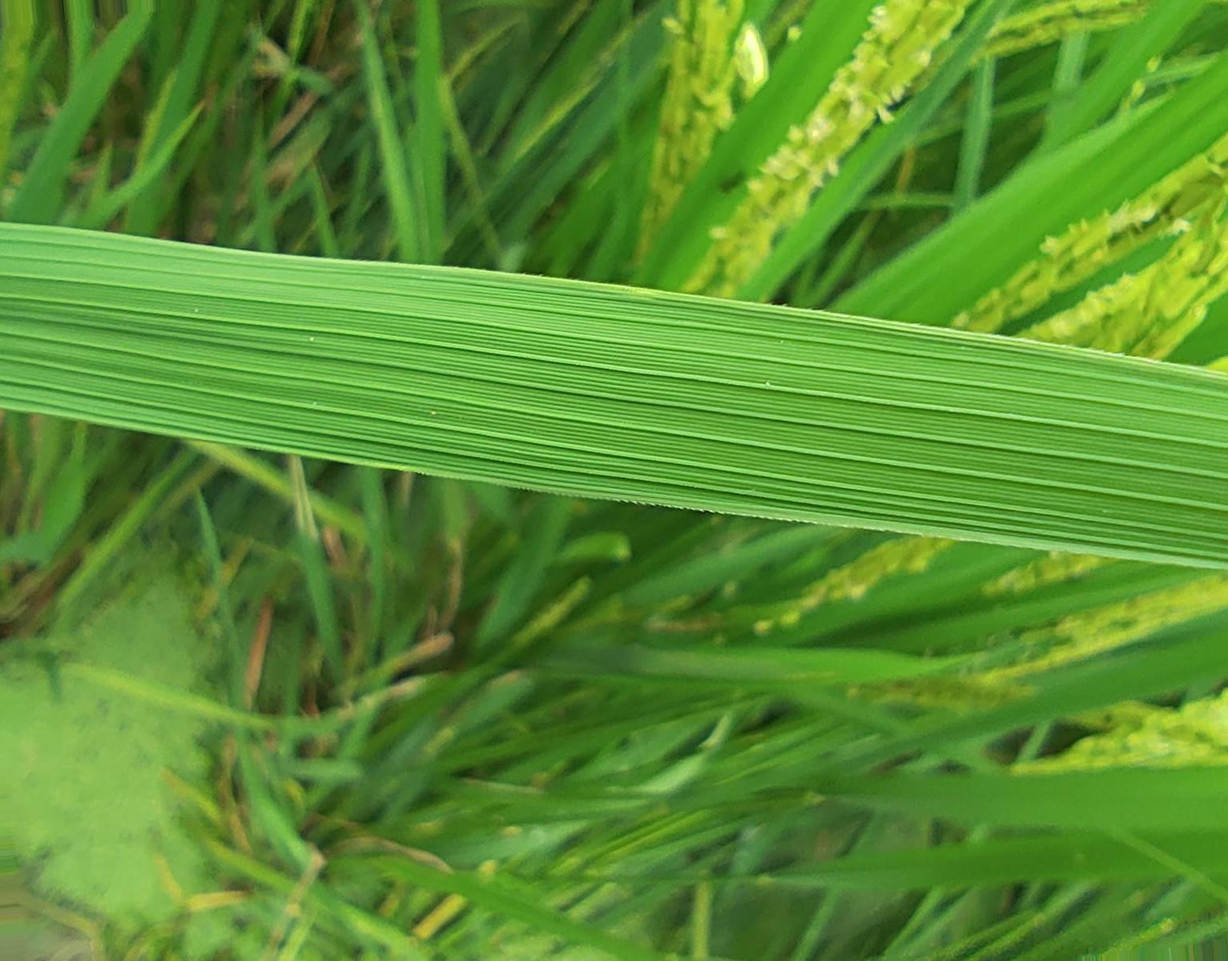Healthy: (1, 223, 1228, 569)
